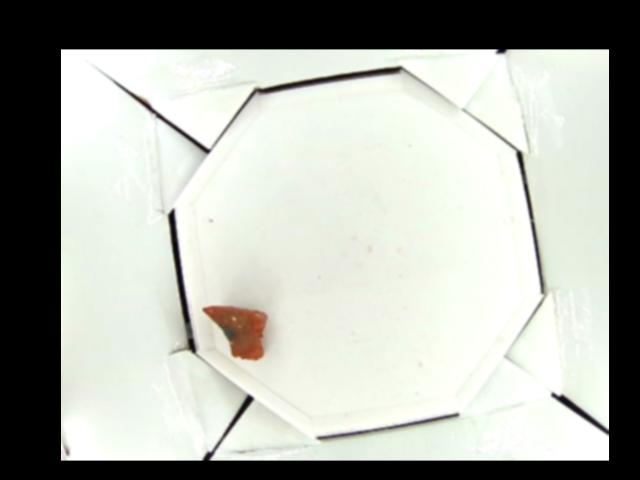Brisk: (198, 304, 267, 360)
